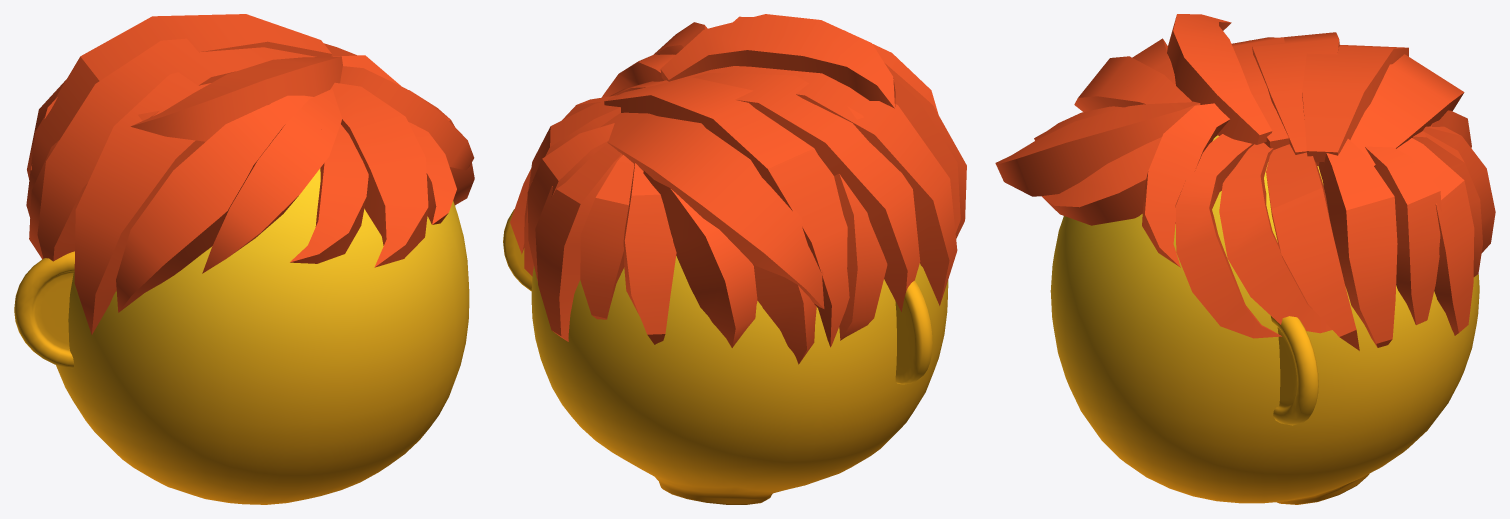
The model's file is red_hair.fbx.
3 views of the same model, side by side, from view 1: azimuth 30°, elevation 25°; view 2: azimuth 150°, elevation 25°; view 3: azimuth 270°, elevation 25° (orthographic). The views are drawn at different scales.
Parts seen in each view (by area): view 1: Cube.014, Roundcube.440, Cylinder.006; view 2: Cube.014, Roundcube.440, Cylinder.006; view 3: Cube.014, Roundcube.440, Cylinder.006.
Part boxes in pixels (<box>): Cube.014: <box>26,14,474,334</box>; Roundcube.440: <box>56,168,469,504</box>; Cylinder.006: <box>14,205,455,368</box>; Cube.014: <box>510,14,966,364</box>; Roundcube.440: <box>531,256,948,504</box>; Cylinder.006: <box>503,209,932,384</box>; Cube.014: <box>995,14,1495,350</box>; Roundcube.440: <box>1050,135,1479,504</box>; Cylinder.006: <box>1271,316,1318,425</box>.
Bounding box in the file's own units: 176 × 173 × 177.
1 material, 1 textured.
